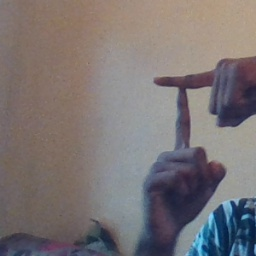T: (139, 53, 240, 176)
